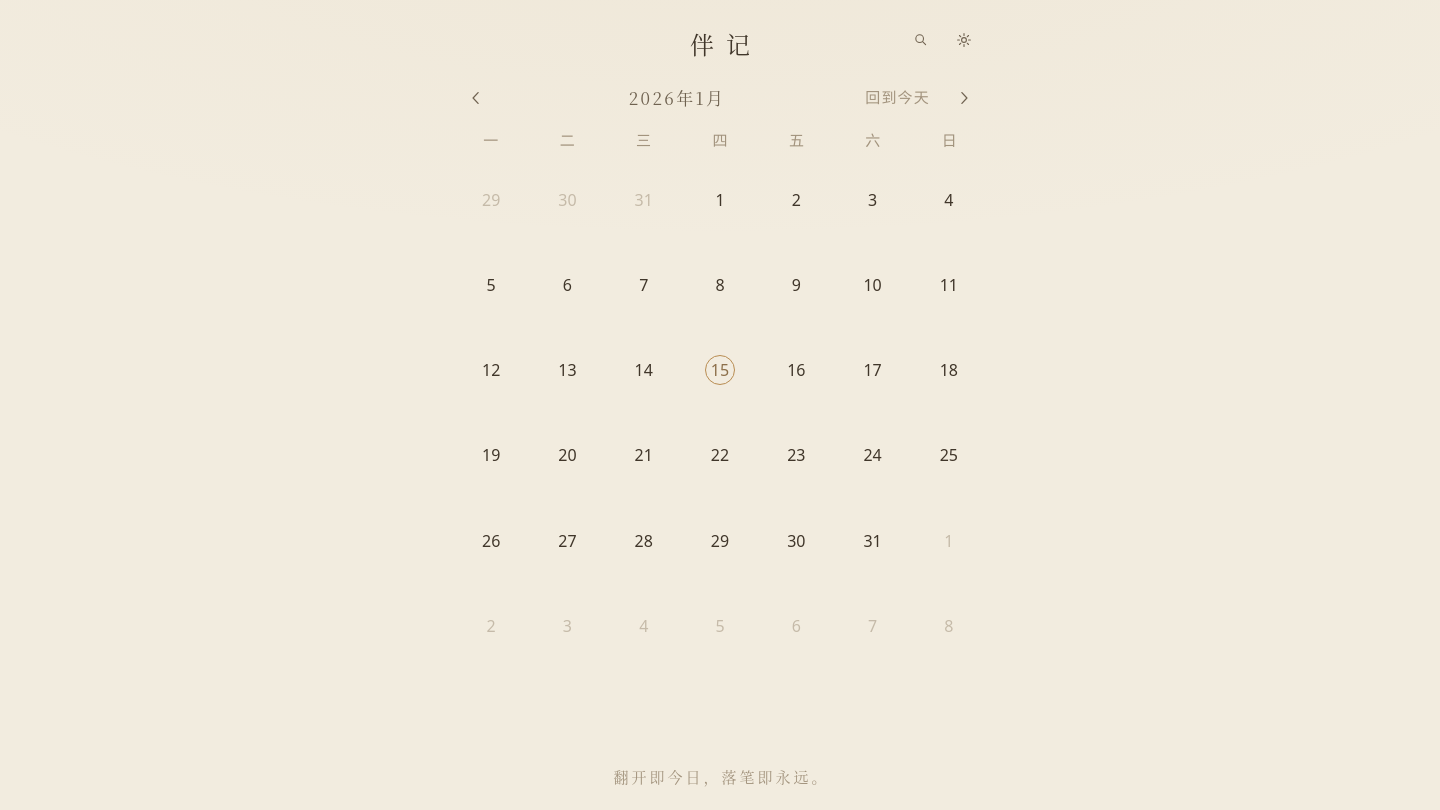
结果：分组、高亮、行点 › debounce 后出结果：新日在前、行=日期签+高亮；容器孩子自成一行；附件名经 hash 联结
This screenshot has width=1440, height=810.
Click the button named "搜索手札" at (920, 40), box 898,18 -> 942,62
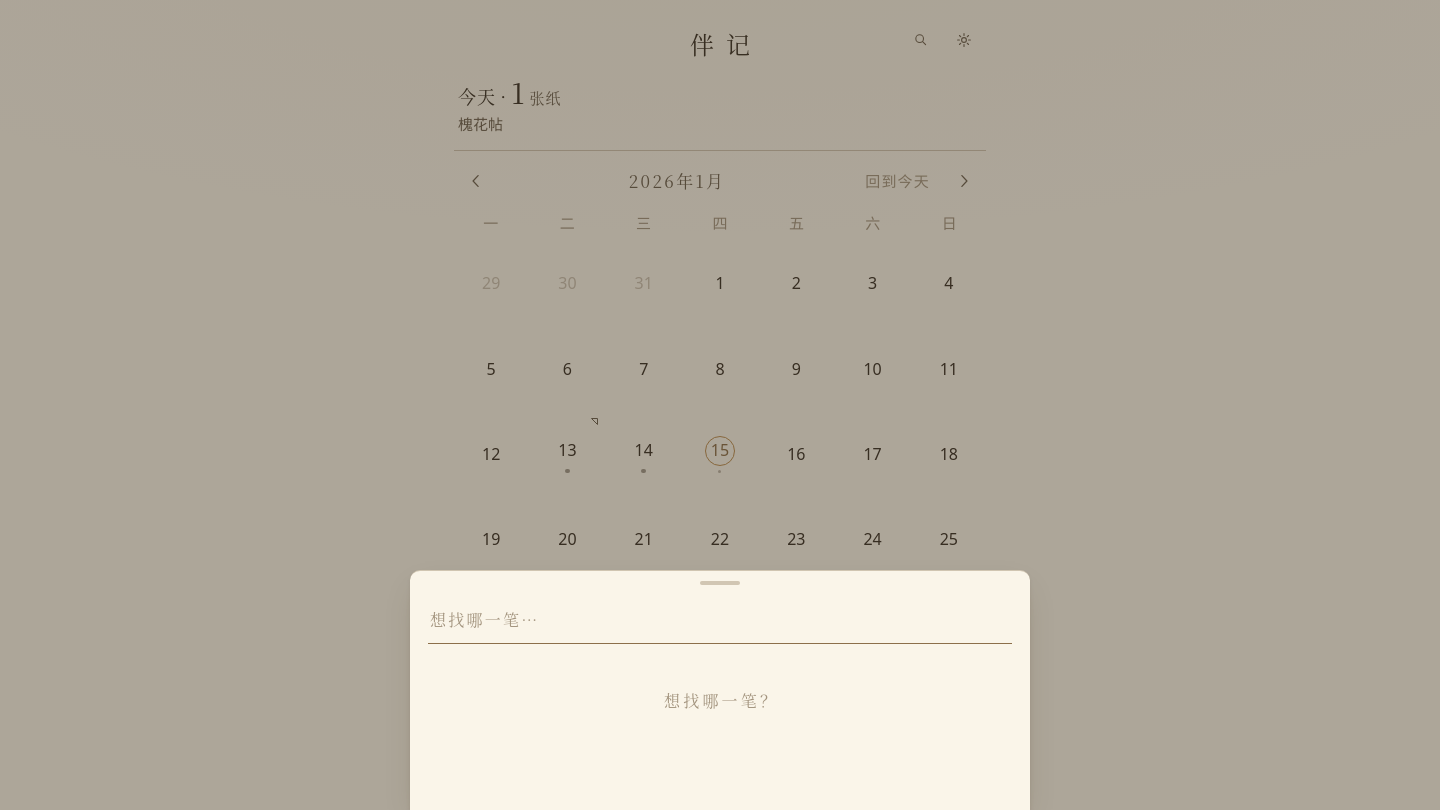
Type "槐花" into the field named "搜索笔记" at (720, 620), box 428,597 -> 1012,644
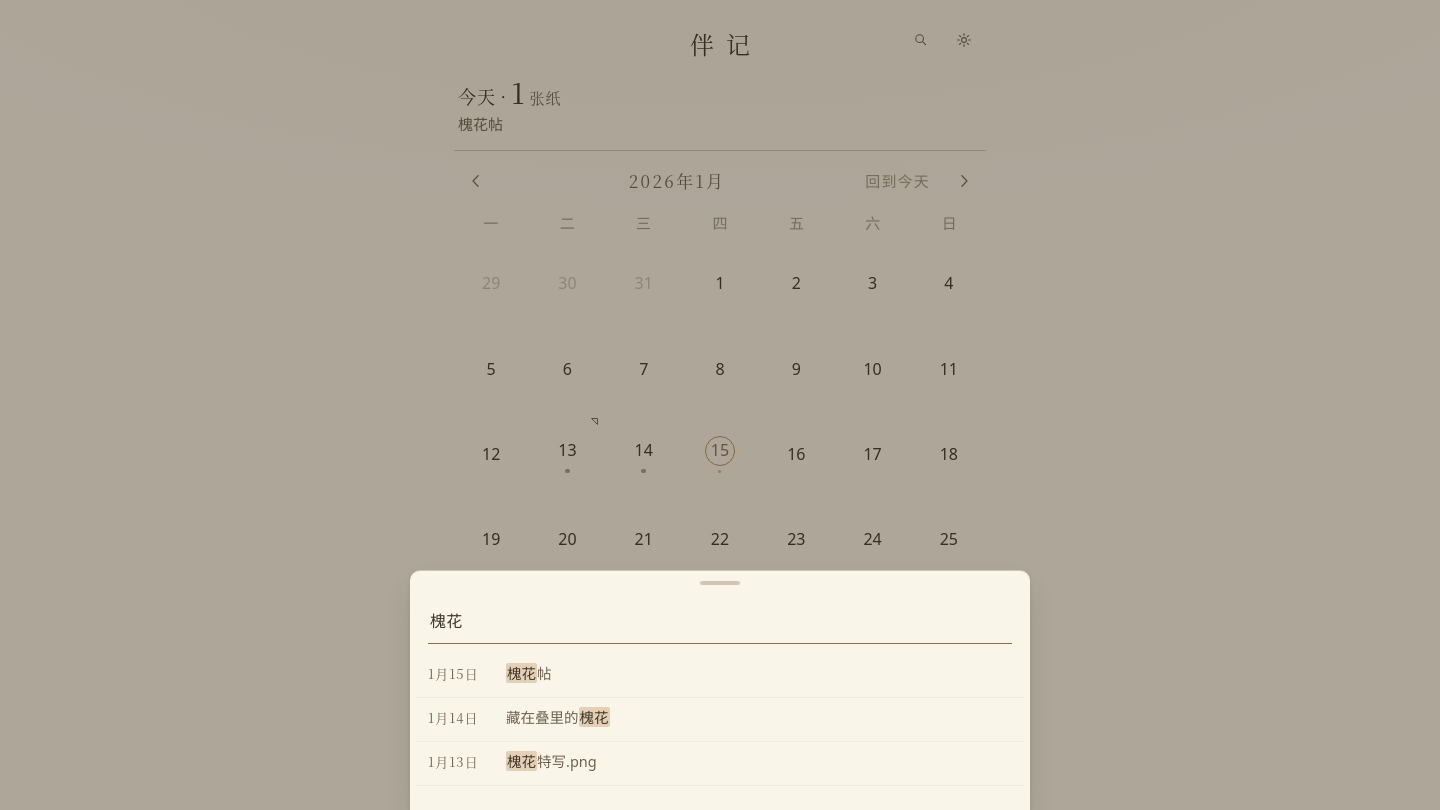
Result: the 1st text "槐花" is shown at 506,663 -> 537,683
